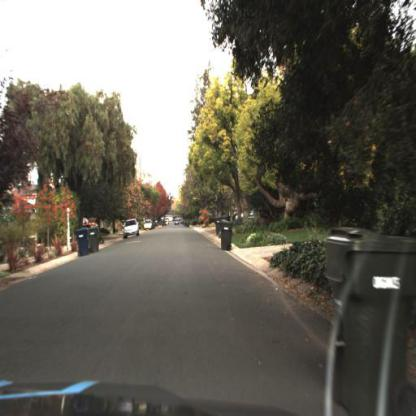car: (122, 217, 143, 243), (125, 219, 142, 240), (81, 216, 99, 232), (145, 220, 154, 232)
